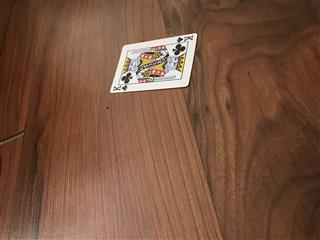KingOfClubs: (109, 32, 199, 94)
